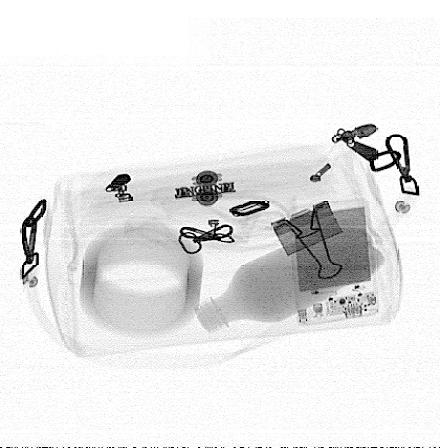Powerbank: (288, 198, 381, 327)
